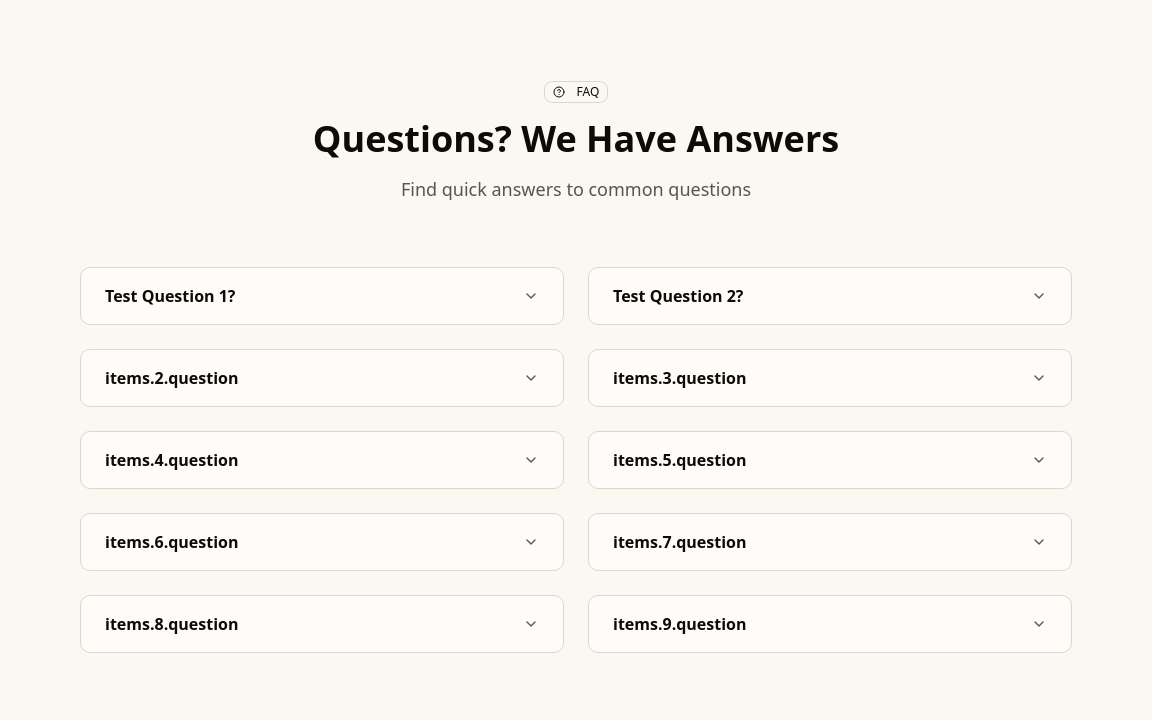
Test: FAQSection › Accessibility Features › supports keyboard interaction with Enter key
// Click to expand
Click the button "Test Question 1?" at (170, 296), box x1=97 y1=268 x2=547 y2=324
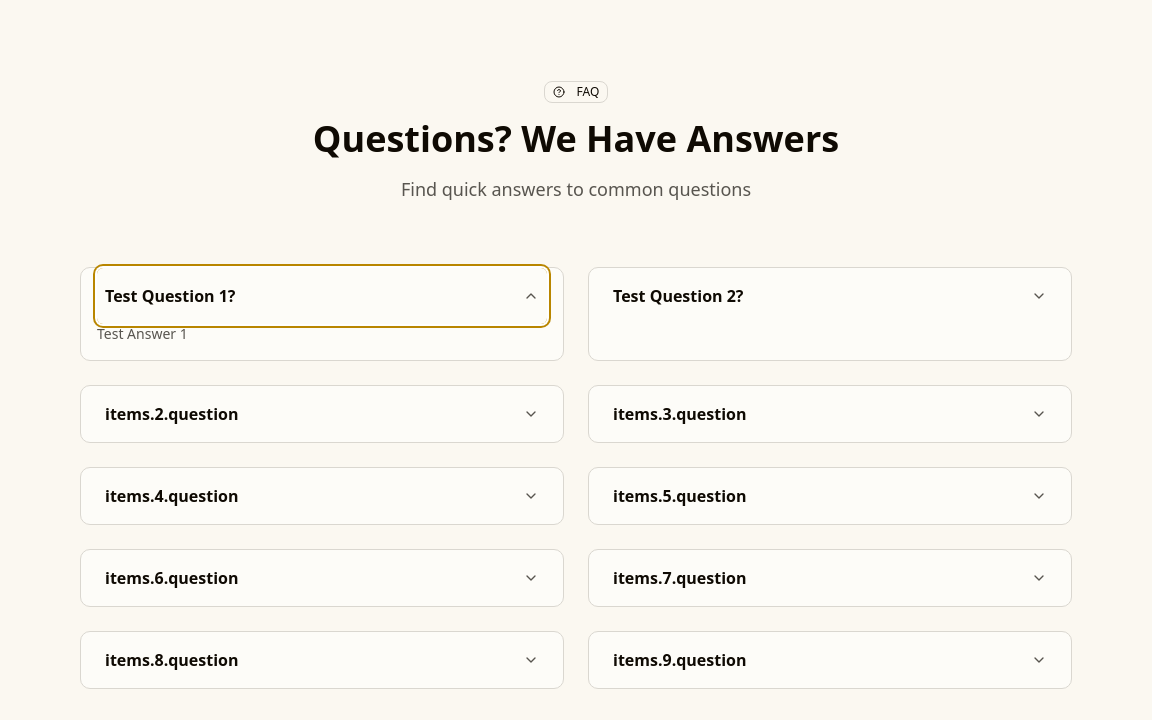
Check: the button "Test Question 1?" is expanded, box x1=97 y1=268 x2=547 y2=324
